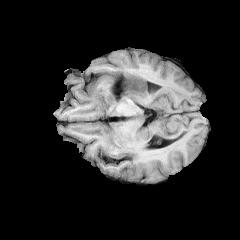glioma: (106, 70, 149, 102)
